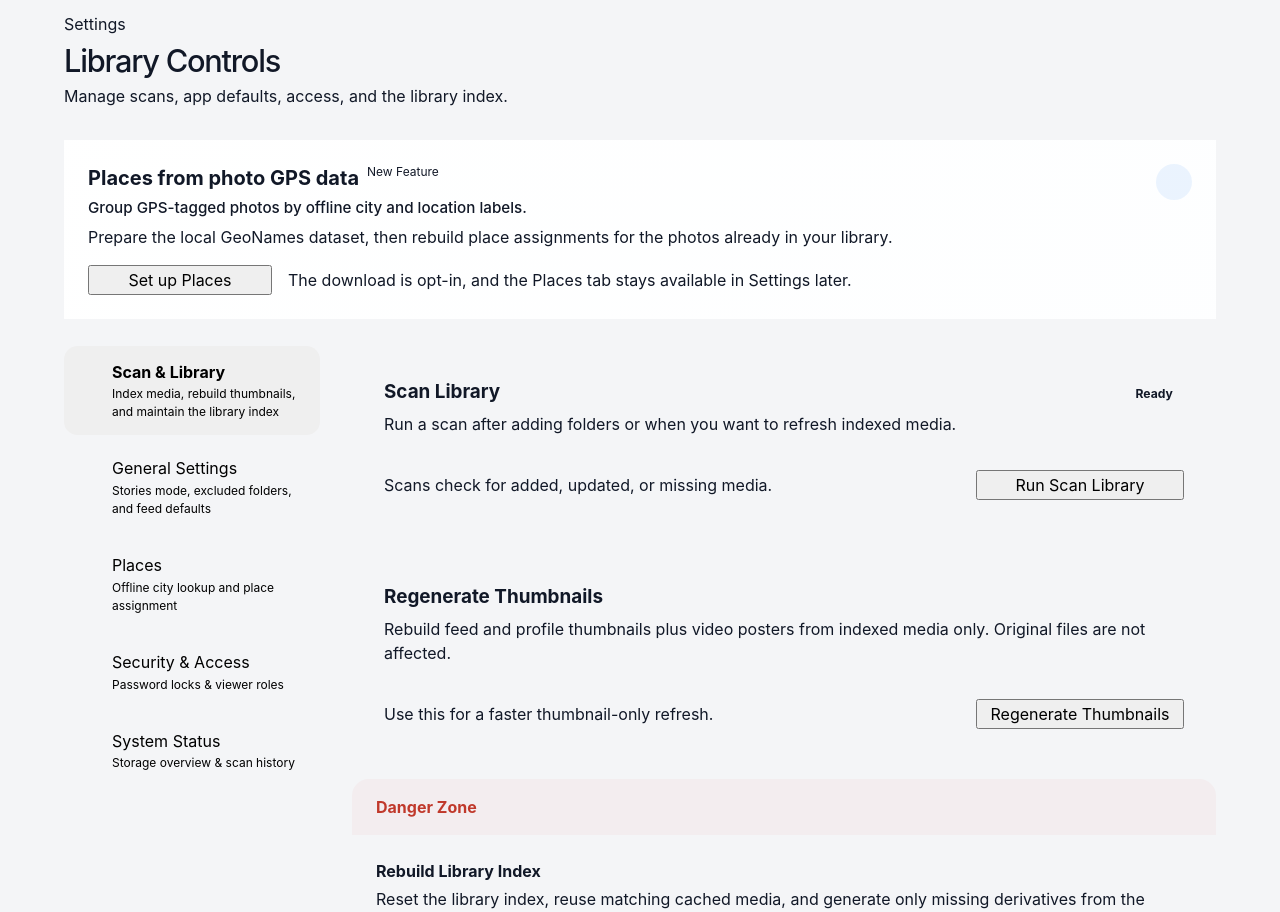
SettingsView › shows the Places onboarding banner and opens the Places tab from its setup action
The width and height of the screenshot is (1280, 912).
Click the button "Set up Places" at (180, 280), box [88,265,272,295]
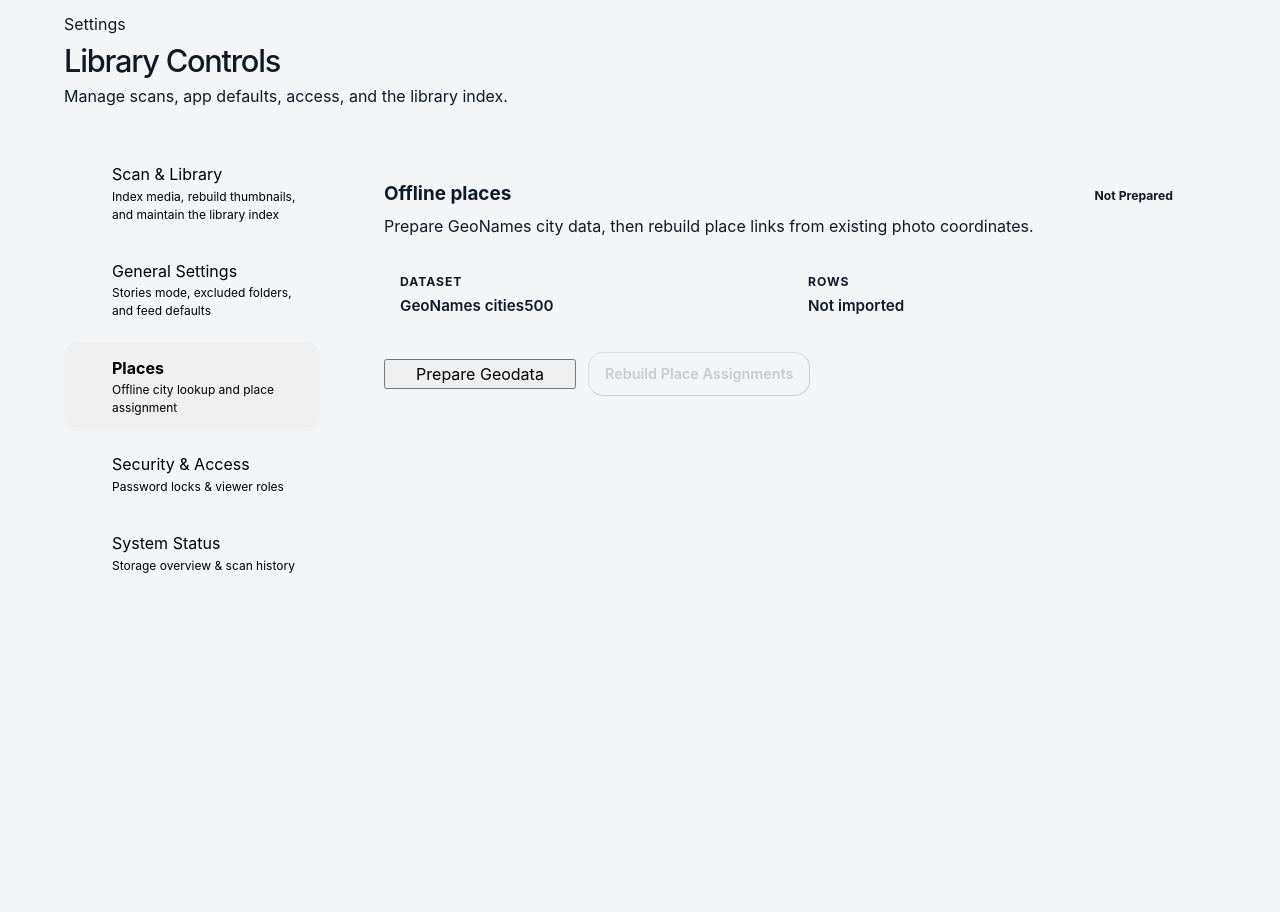
Expected: the text "Places from photo GPS data" is gone
Expected: the text "Offline places" is shown, [384,182,511,206]
Expected: the text "Prepare GeoNames city data" is shown, [384,216,1034,236]
